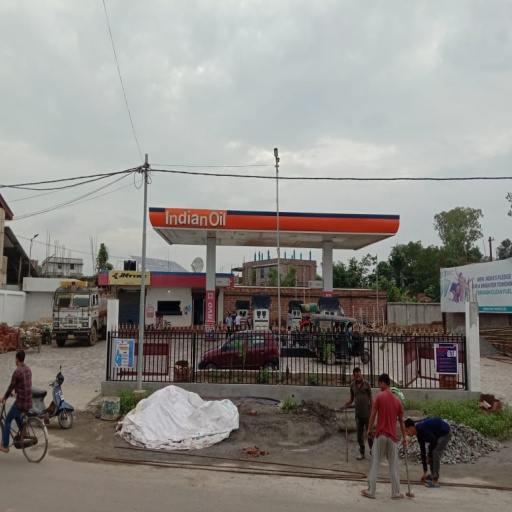roof: (148, 205, 400, 249)
